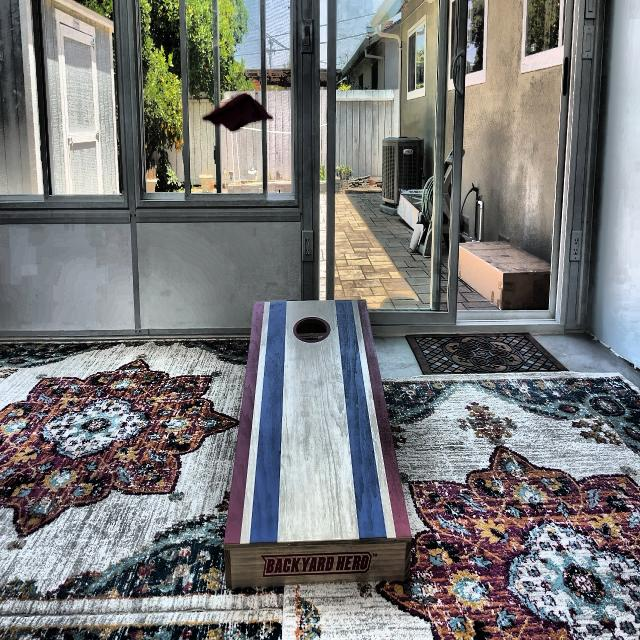board: (249, 301, 374, 543)
hole: (293, 315, 330, 343)
red-bean-bag: (204, 91, 274, 133)
